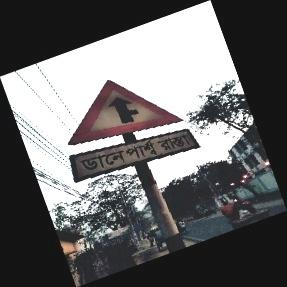Side-road-right: (67, 81, 194, 249)
